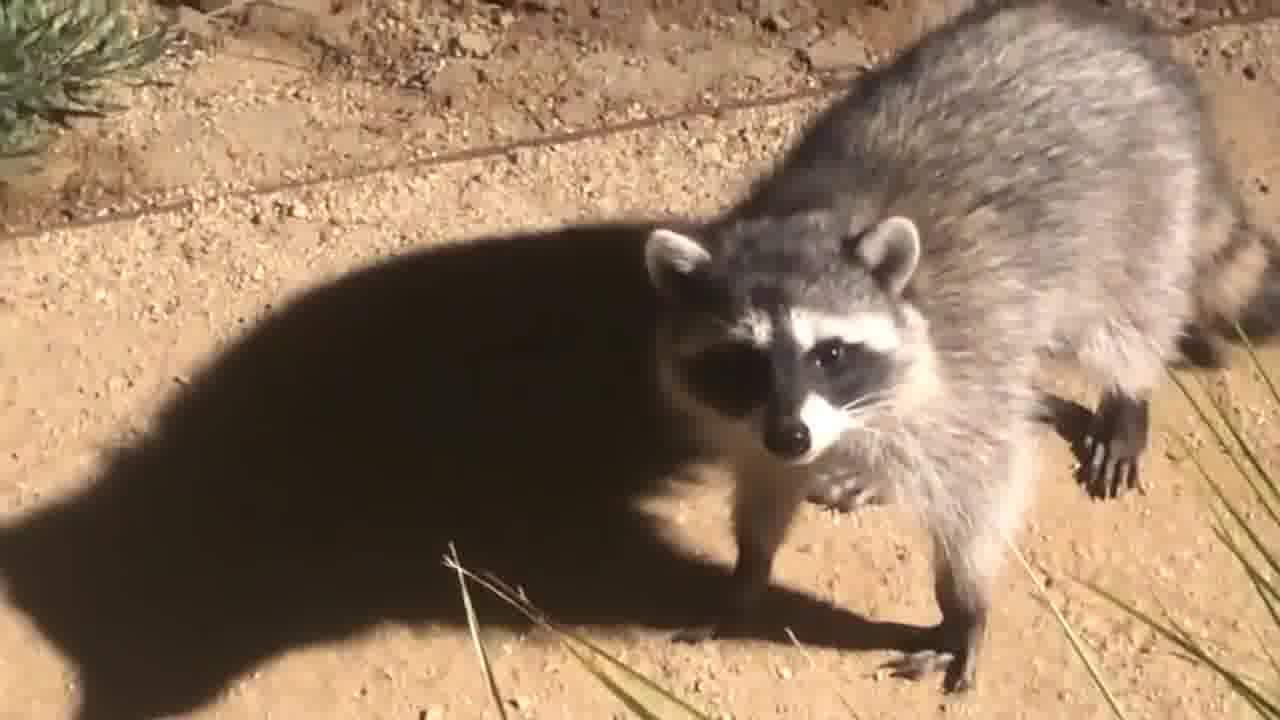raccoon: (615, 0, 1279, 711)
